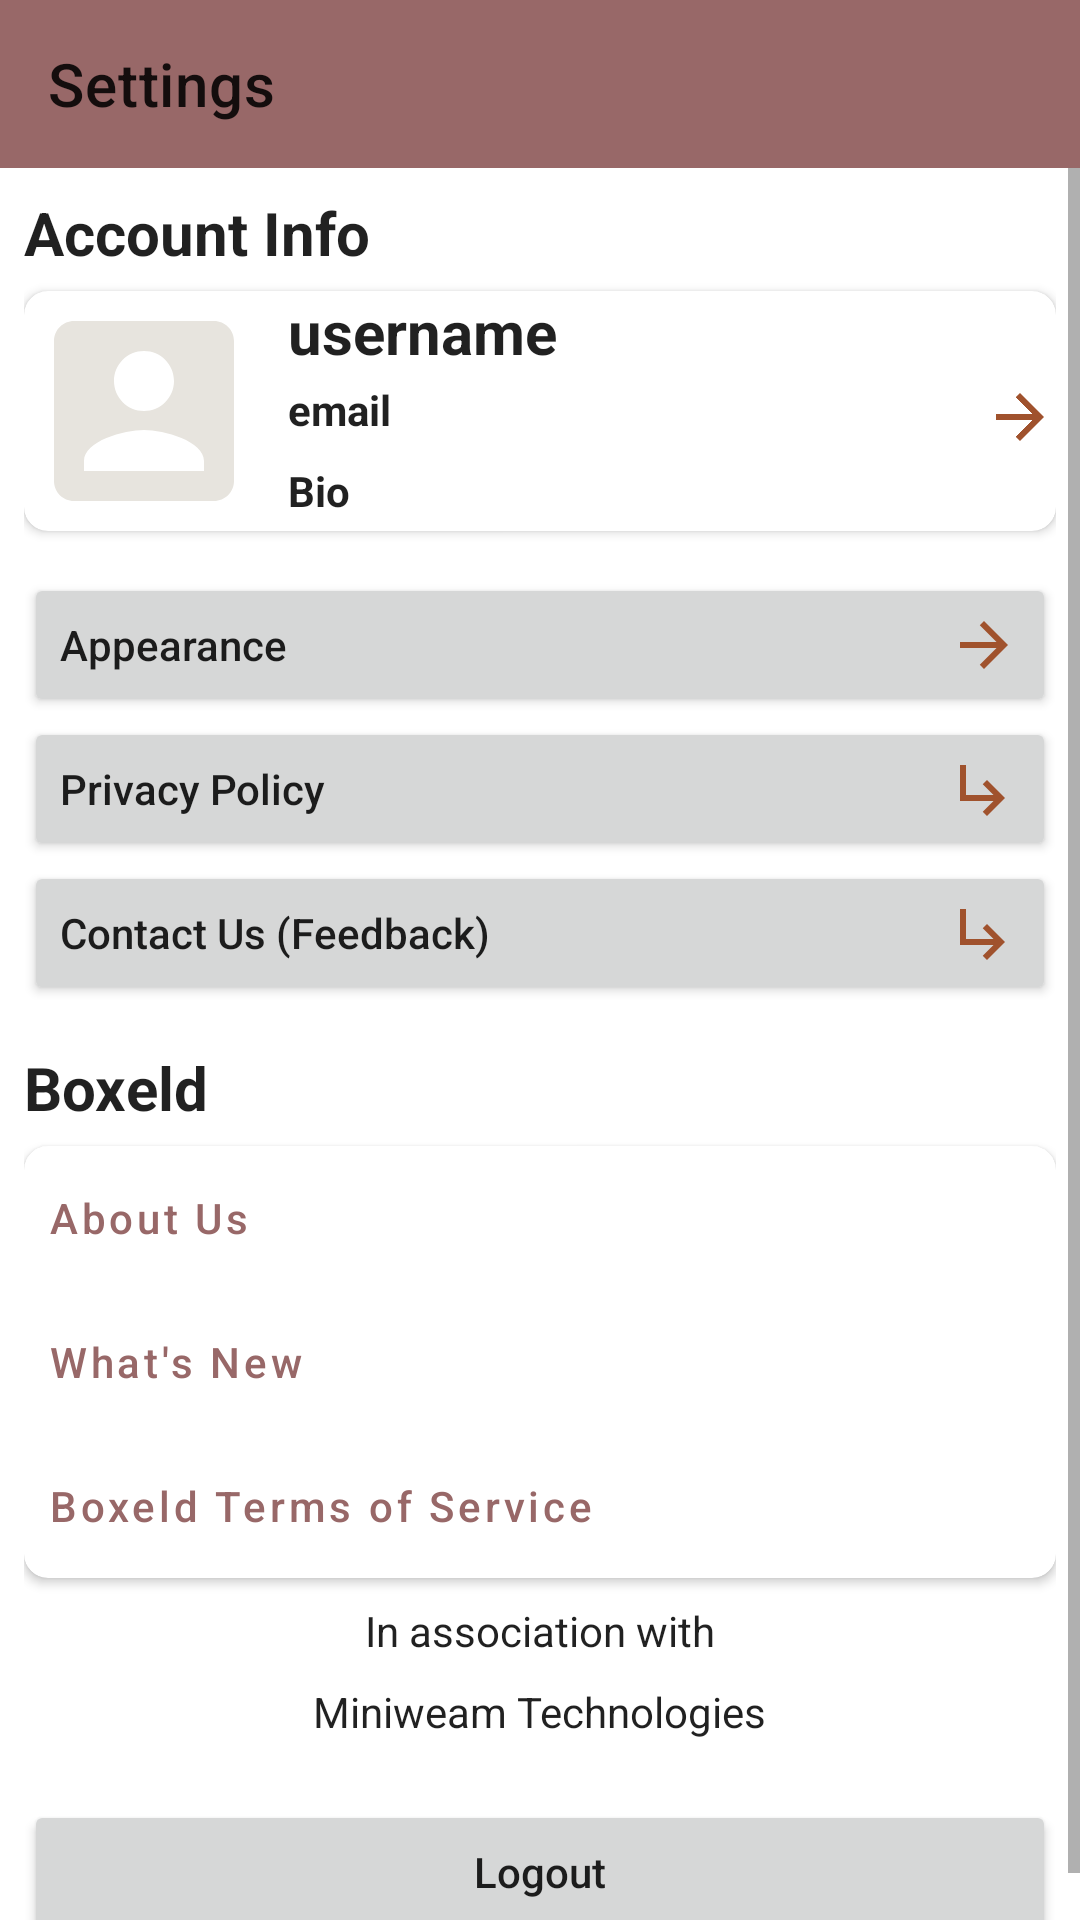

Icon click points for this 1080w x 1920h phone screenshot, format (x,y):
Account profile picture: (129,398)
